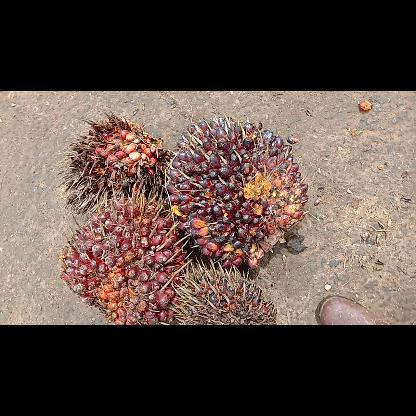Kurang masak: (166, 114, 310, 270)
TBS abnormal: (168, 254, 278, 324)
TBS masak: (59, 198, 187, 324)
Terlalu masak: (58, 110, 168, 214)
